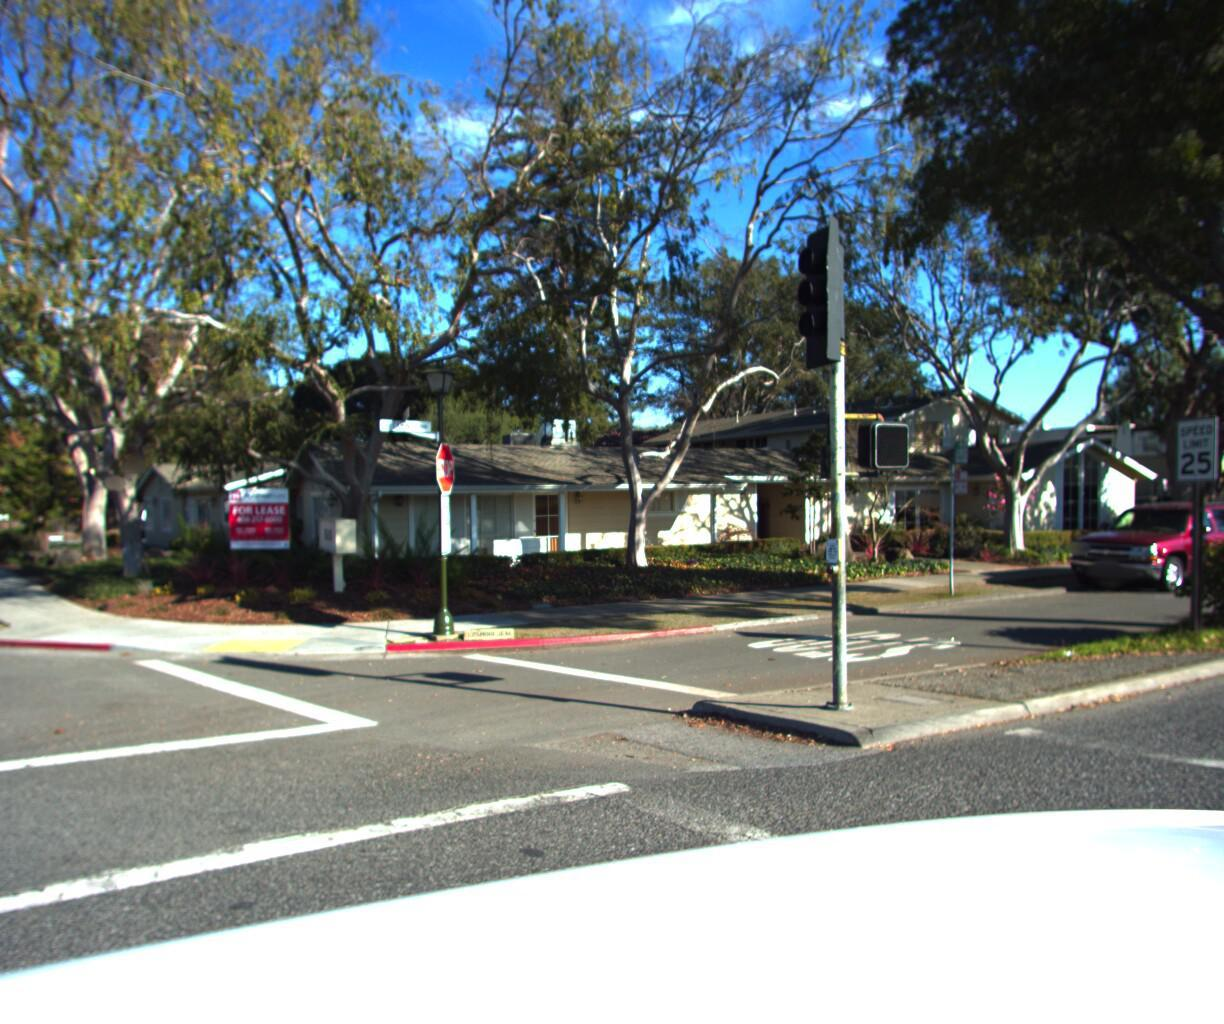car: (1051, 496, 1224, 597)
